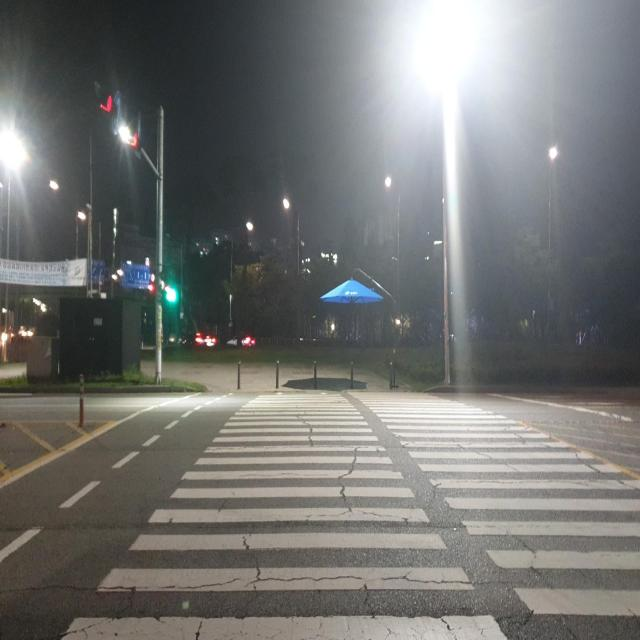횡단보도: (60, 384, 640, 640)
